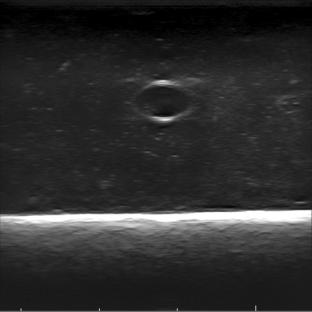vessel: (132, 79, 194, 122)
